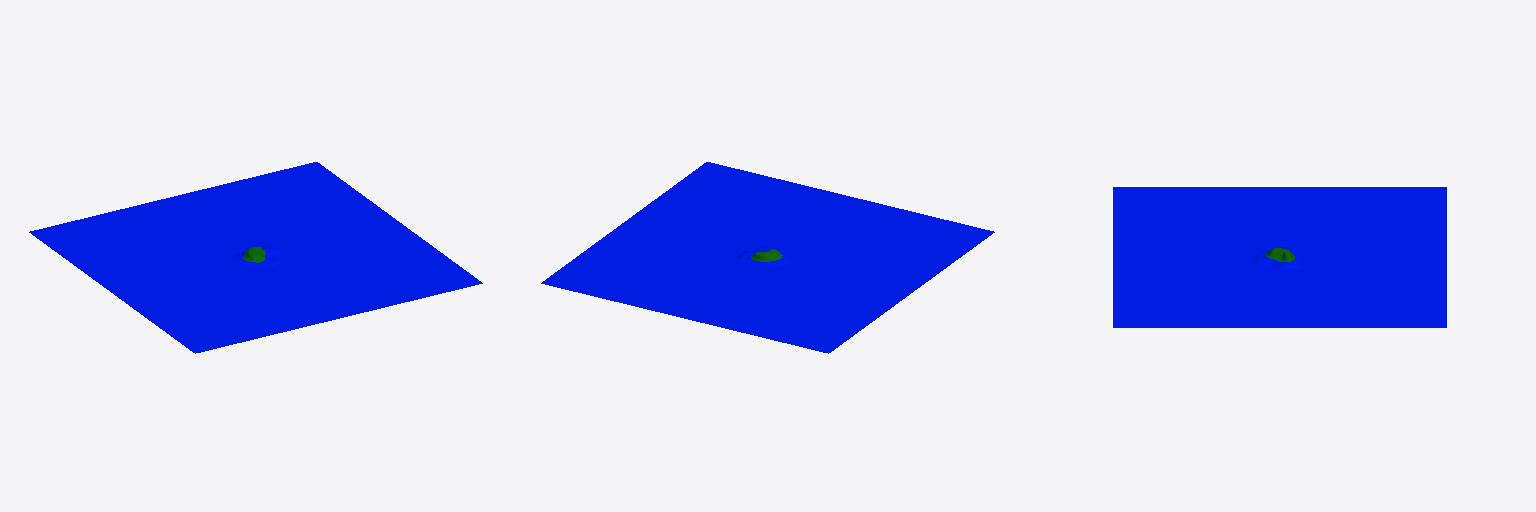
File: terrain.obj
3 renders of one model, left to right at view 1: azimuth 30°, elevation 25°; view 2: azimuth 150°, elevation 25°; view 3: azimuth 270°, elevation 25°, orthographic.
Visible parts, largest first — view 1: Plane, Cube_001; view 2: Plane, Cube_001; view 3: Plane, Cube_001.
Boxes of the visible parts, x1=… form: Plane: x1=29, y1=162, x2=482, y2=353; Cube_001: x1=231, y1=245, x2=283, y2=267; Plane: x1=541, y1=162, x2=994, y2=353; Cube_001: x1=736, y1=246, x2=789, y2=266; Plane: x1=1113, y1=187, x2=1446, y2=327; Cube_001: x1=1255, y1=247, x2=1302, y2=269.
Size of the model in its own units: 2000 by 75.32 by 2000.